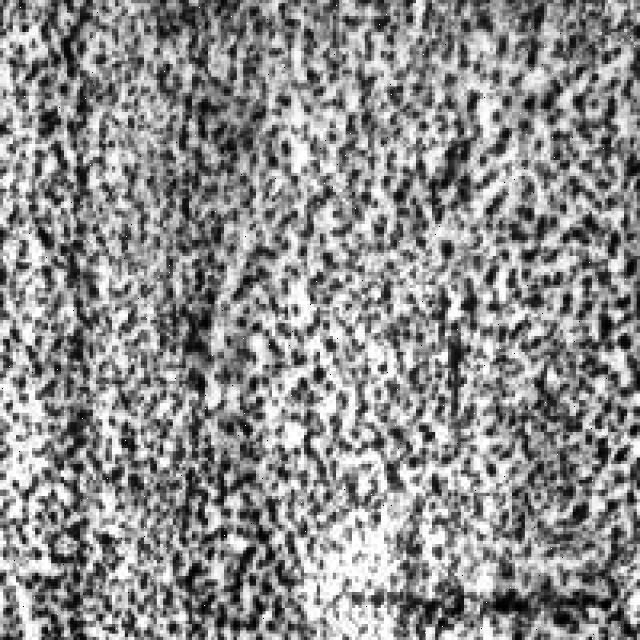Rolled_in_Scale: (0, 0, 633, 630)
